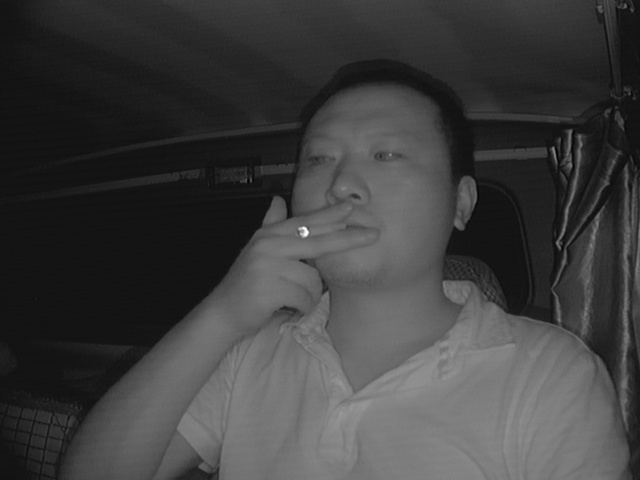hand: (247, 192, 378, 326)
